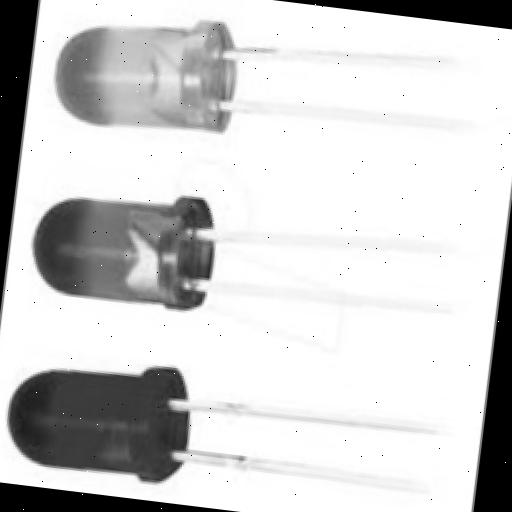LED: (9, 163, 512, 407), (33, 0, 512, 229), (2, 342, 476, 512)
